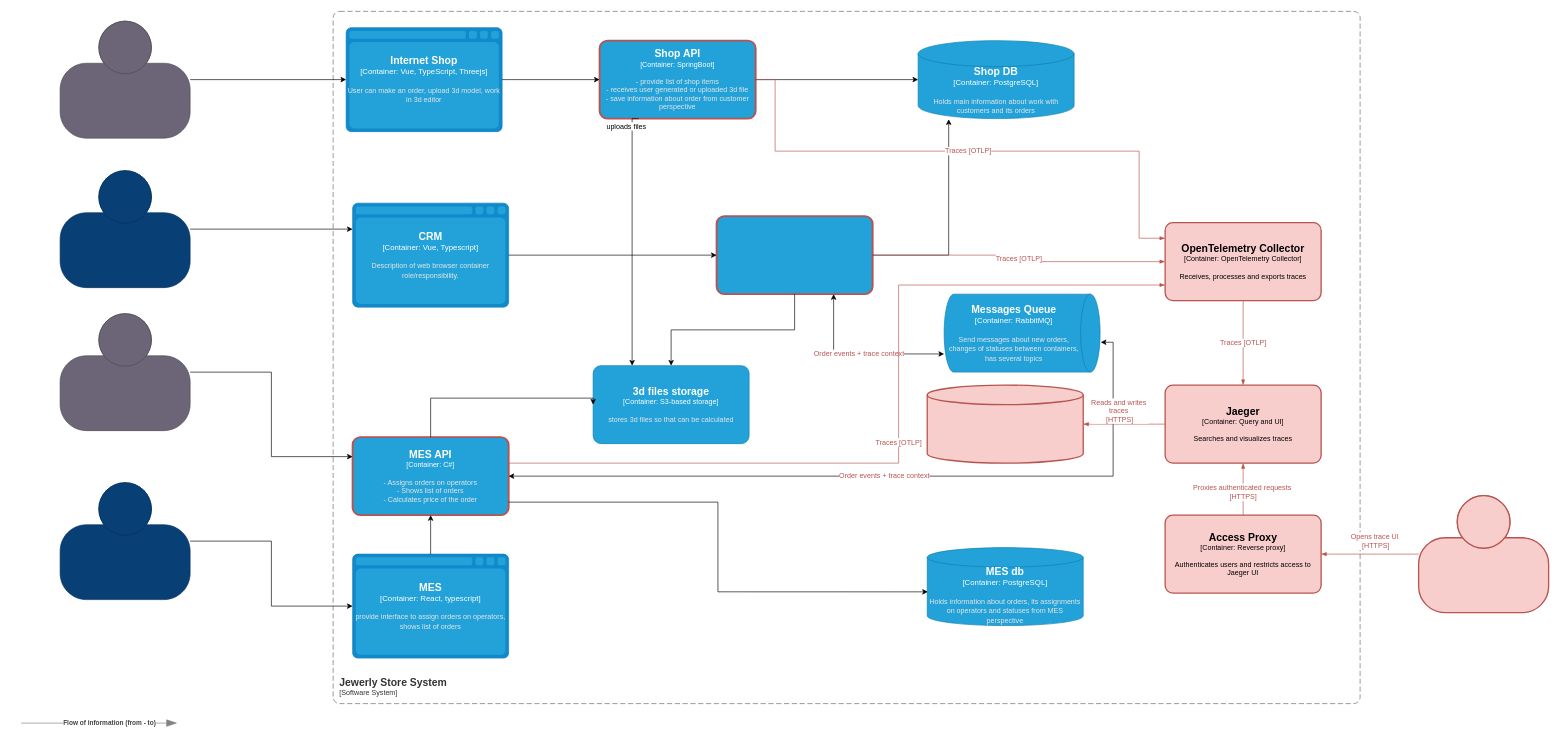
This 1561x745 diagram has some shape labels left out. The shapes that lost their labels are listed below. From the top down, each one's box as (x1, y1, x2, y2) in pixels, then its label:
(59, 20, 190, 138): Customer [Person] Description of external person.
(59, 170, 190, 288): Seller [Person] Operates with order, confirms manufacturing for the user
(715, 215, 873, 295): CRM API [Container: SpringBoot] Description of container role/responsibility.
(59, 313, 190, 431): API user [Person] Description of external person.
(926, 384, 1084, 463): Trace Storage [Container: Elasticsearch] Stores trace indices for 30 days
(59, 482, 190, 600): Operator [Person] Takes order in work, manufactures jewerly
(1418, 495, 1549, 613): Support [Person] Investigates orders using traces
